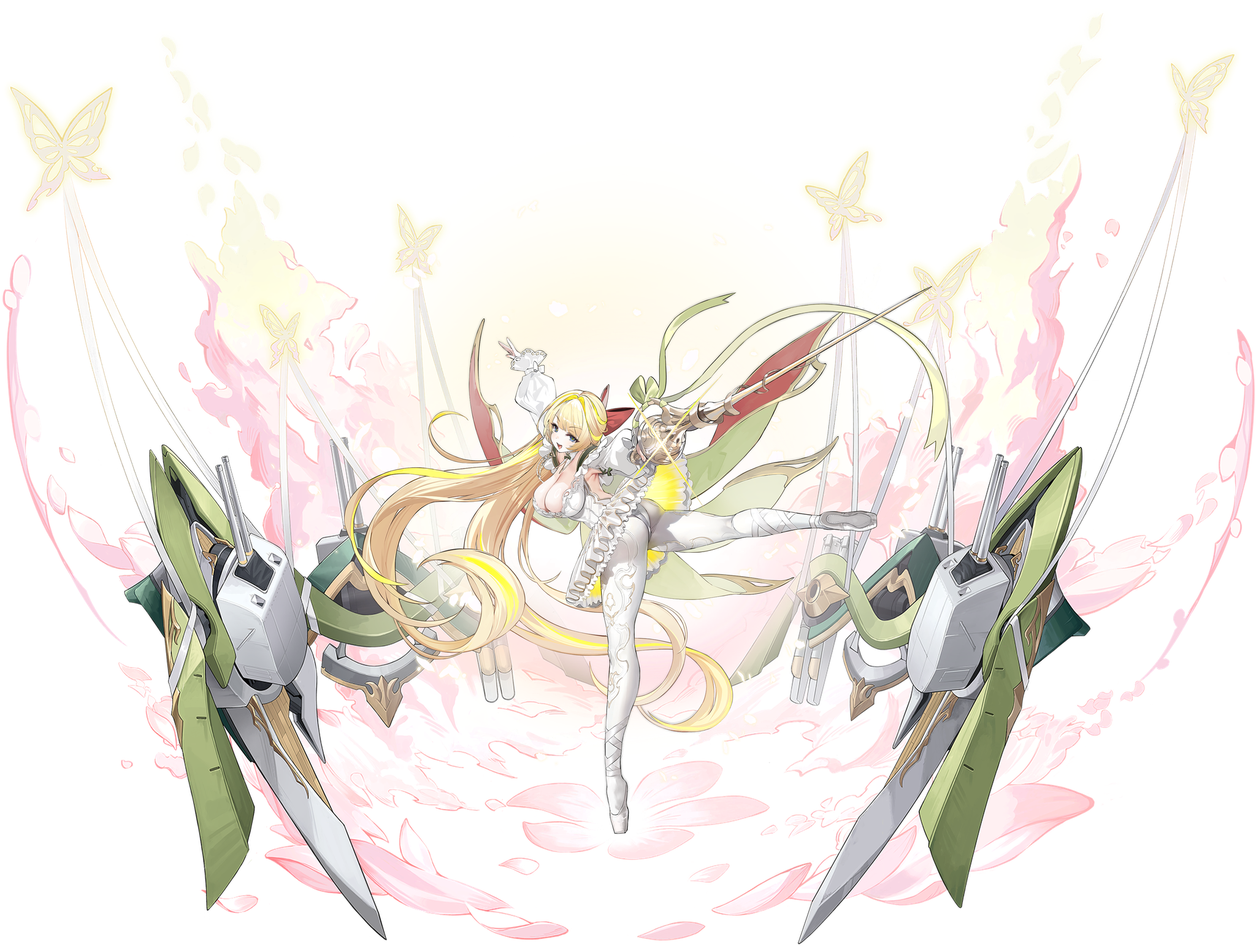person: (415, 323, 708, 845)
